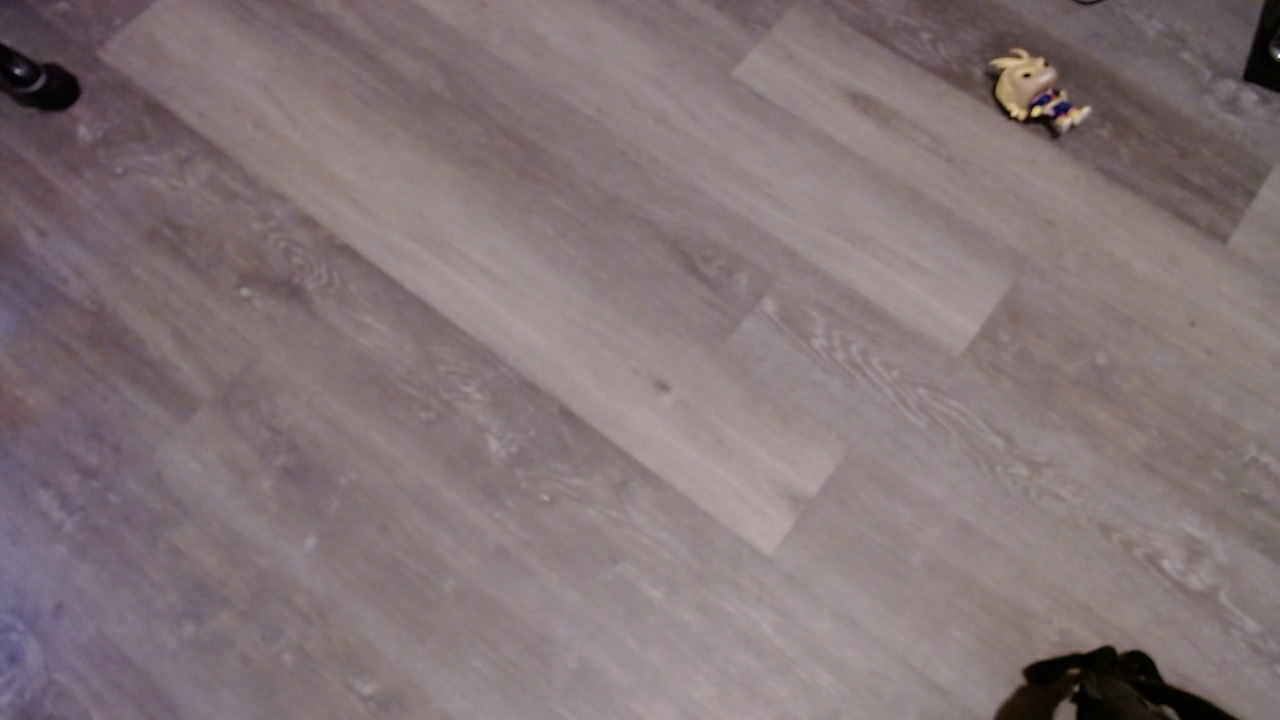all_might: (998, 40, 1100, 156)
